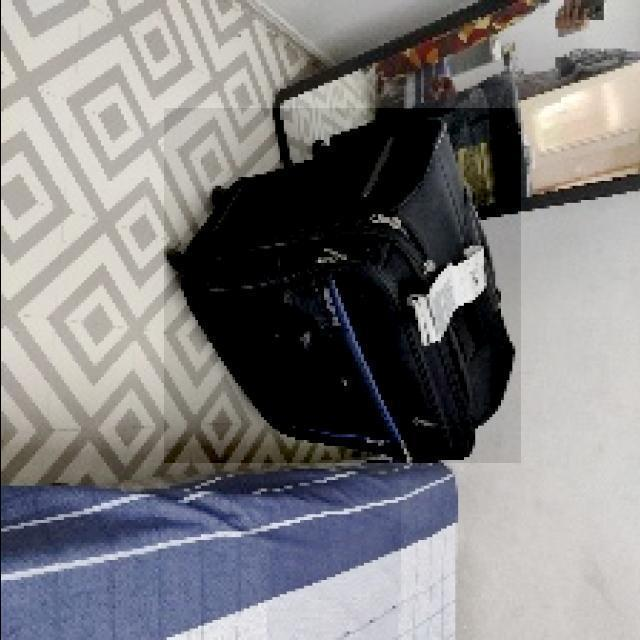Suitcase: (171, 115, 511, 462)
